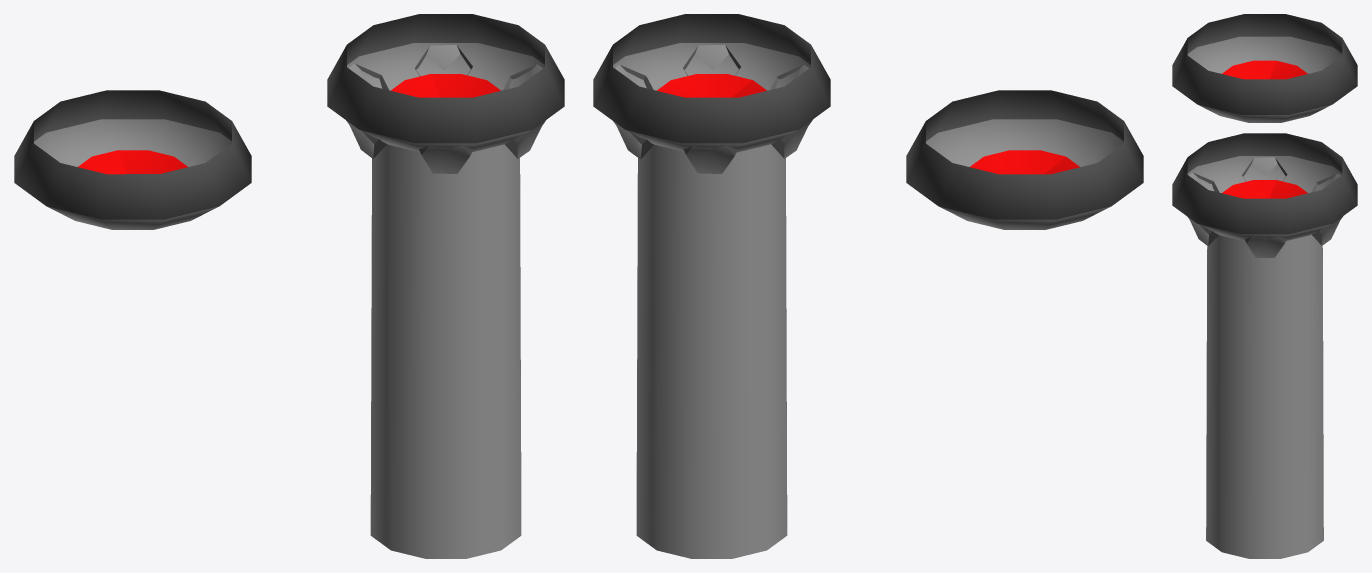
File: Beam MDL.fbx
3 renders of one model, left to right at view 1: azimuth 30°, elevation 25°; view 2: azimuth 150°, elevation 25°; view 3: azimuth 270°, elevation 25°, orthographic. The views are drawn at different scales.
Visible parts, largest first — view 1: Beam, BeamBase_Detailed, BeamBase_Simple; view 2: Beam, BeamBase_Detailed, BeamBase_Simple; view 3: Beam, BeamBase_Detailed, BeamBase_Simple.
Part boxes in pixels (left/top/right/bottom): Beam: left=370, top=144, right=521, bottom=558; BeamBase_Detailed: left=327, top=14, right=564, bottom=173; BeamBase_Simple: left=14, top=90, right=251, bottom=229; Beam: left=636, top=144, right=787, bottom=558; BeamBase_Detailed: left=593, top=14, right=830, bottom=173; BeamBase_Simple: left=906, top=90, right=1143, bottom=229; Beam: left=1206, top=234, right=1323, bottom=558; BeamBase_Detailed: left=1172, top=133, right=1357, bottom=257; BeamBase_Simple: left=1172, top=14, right=1357, bottom=122.
Bounding box in the file's own units: 21.39 × 18.57 × 8.48.
